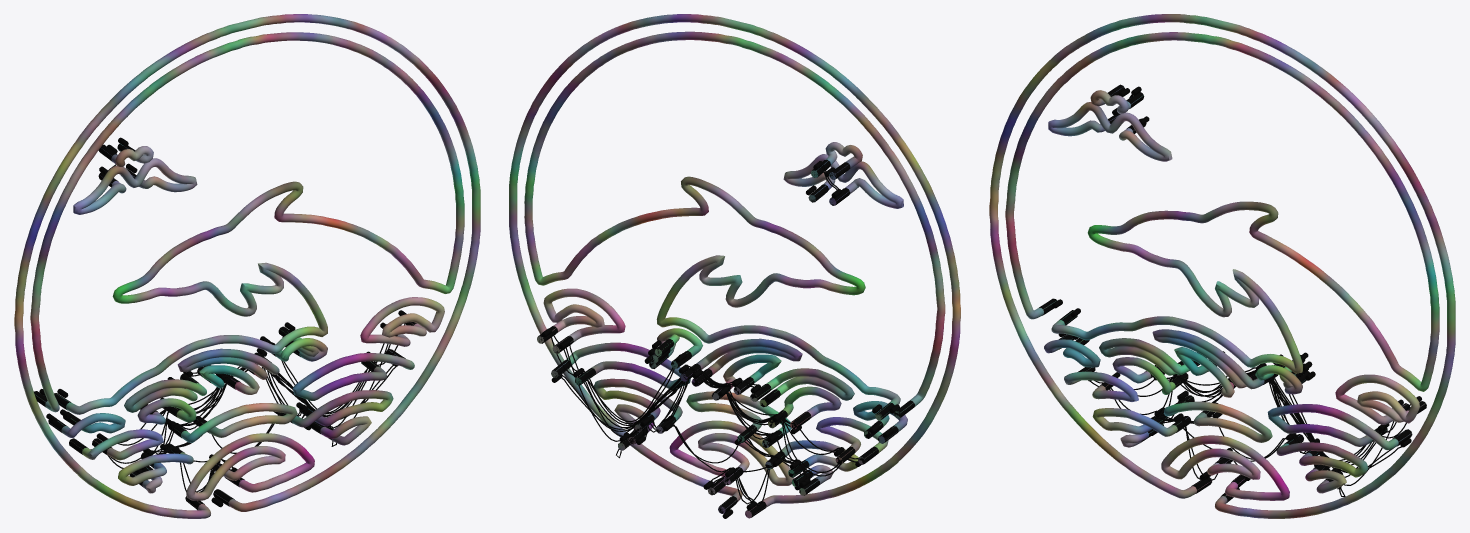
The model's file is neonsign_15.fbx.
3 renders of one model, left to right at view 1: azimuth 30°, elevation 25°; view 2: azimuth 150°, elevation 25°; view 3: azimuth 330°, elevation 25°, orthographic. The views are drawn at different scales.
Parts seen in each view (by area): view 1: neonsign_15; view 2: neonsign_15; view 3: neonsign_15.
Boxes of the visible parts, bbox=[...] form: neonsign_15: bbox=[14, 14, 480, 518]; neonsign_15: bbox=[509, 14, 960, 518]; neonsign_15: bbox=[989, 14, 1455, 518].
Bounding box in the file's own units: 1.75 × 1.77 × 0.1584.
